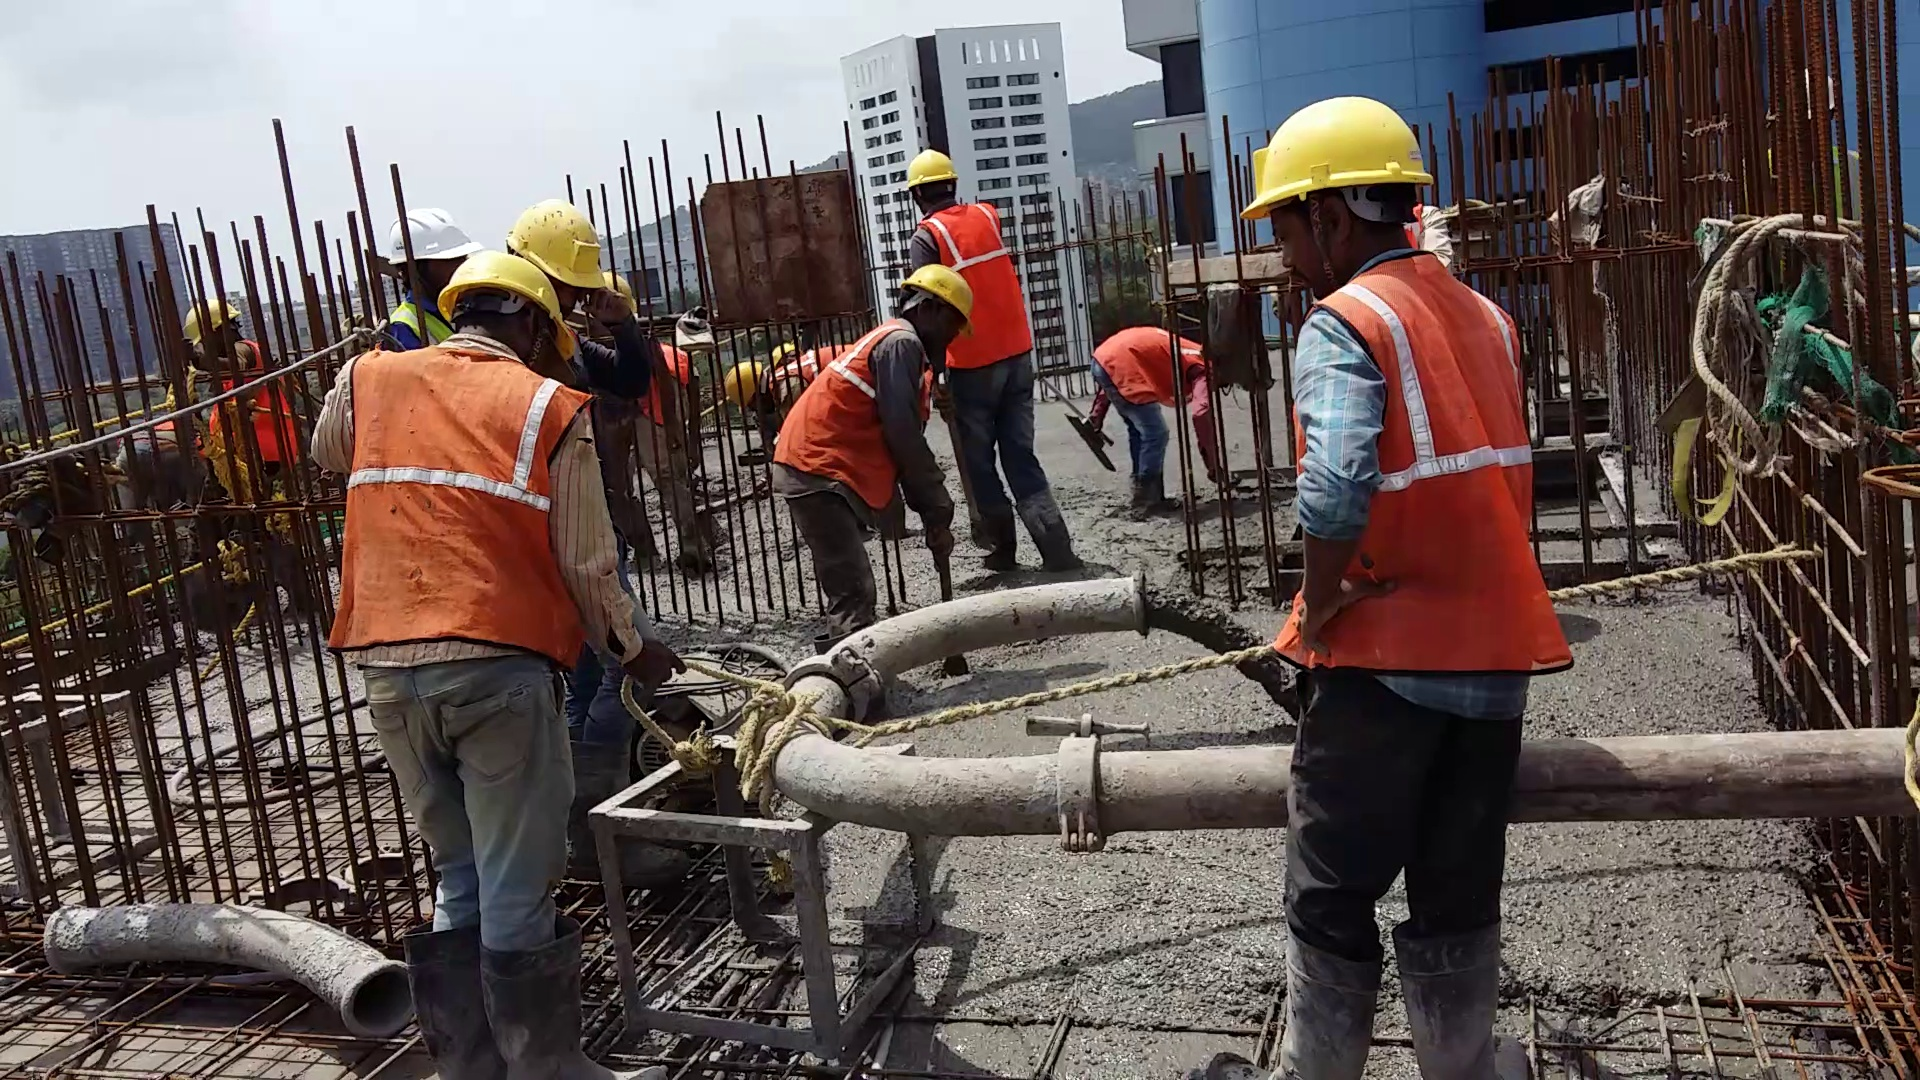SAFE: (1244, 91, 1545, 698), (323, 255, 572, 673), (771, 262, 977, 491), (905, 142, 1030, 375)
